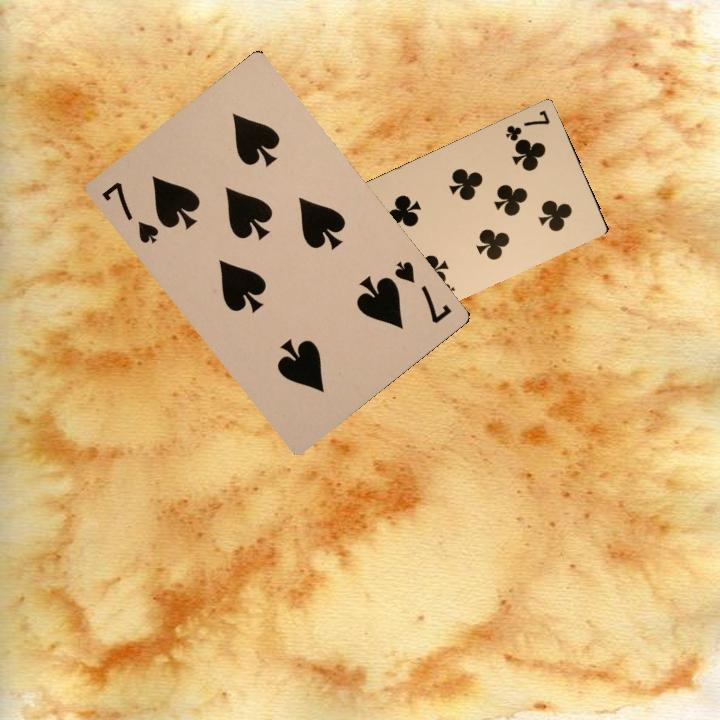7c: (501, 106, 552, 144)
7s: (390, 257, 455, 327), (97, 177, 161, 246)
